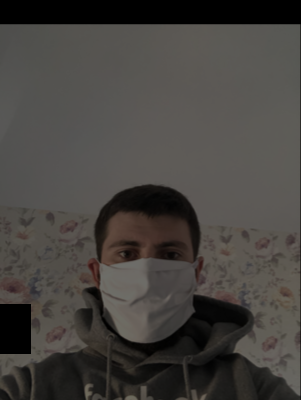with_mask: (98, 229, 197, 342)
